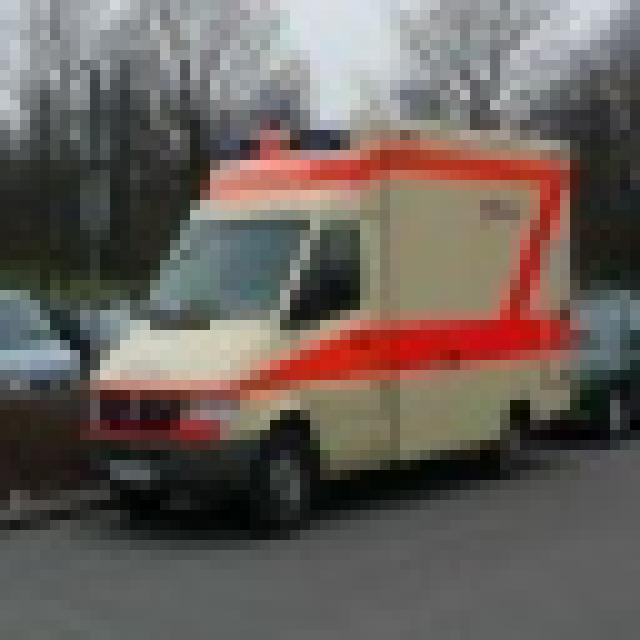Ambulance: (70, 110, 580, 530)
